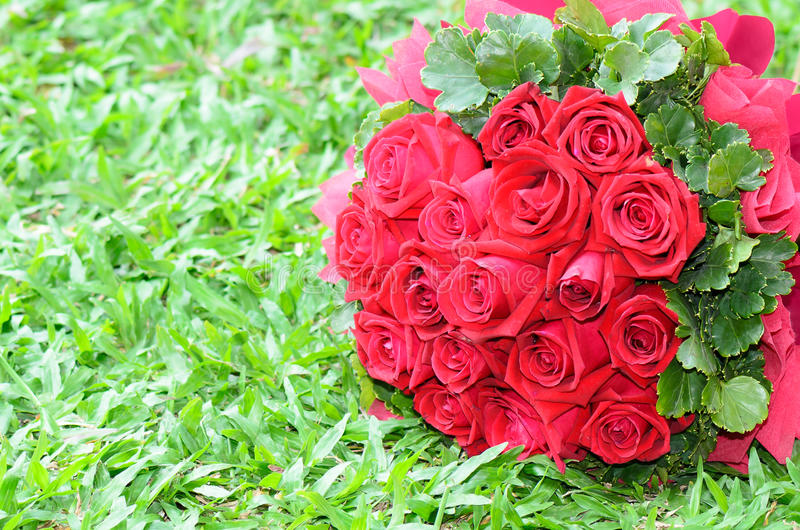RedRose: (593, 159, 709, 280), (478, 155, 595, 253), (357, 118, 471, 217), (578, 383, 682, 484), (554, 79, 651, 174), (437, 249, 530, 345), (331, 198, 409, 307), (507, 321, 599, 402), (609, 292, 688, 386), (352, 303, 438, 388), (541, 241, 630, 320), (474, 88, 568, 160), (477, 386, 565, 462), (421, 369, 490, 453), (385, 240, 455, 319), (420, 183, 486, 252), (426, 330, 495, 387)
